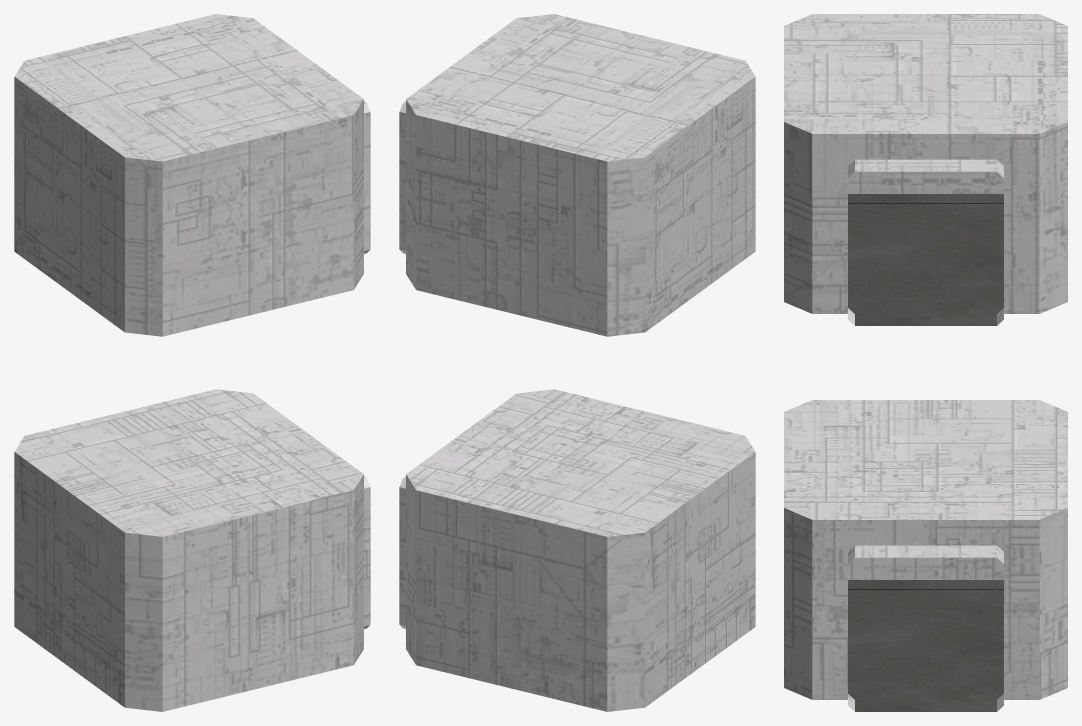
File: thm_spc_star_destroyer_s01_r38_elevator01_mesh_r38.fbx
3 views of the same model, side by side, from view 1: azimuth 30°, elevation 25°; view 2: azimuth 150°, elevation 25°; view 3: azimuth 270°, elevation 25° (orthographic). The views are drawn at different scales.
Parts seen in each view (by area): view 1: mesh_node; view 2: mesh_node; view 3: mesh_node.
Part boxes in pixels (left/top/right/bottom): mesh_node: left=14, top=14, right=370, bottom=711; mesh_node: left=399, top=14, right=755, bottom=711; mesh_node: left=784, top=14, right=1067, bottom=711.
Size of the model in its own units: 5.5 by 11 by 5.
2 materials, 2 textured.
